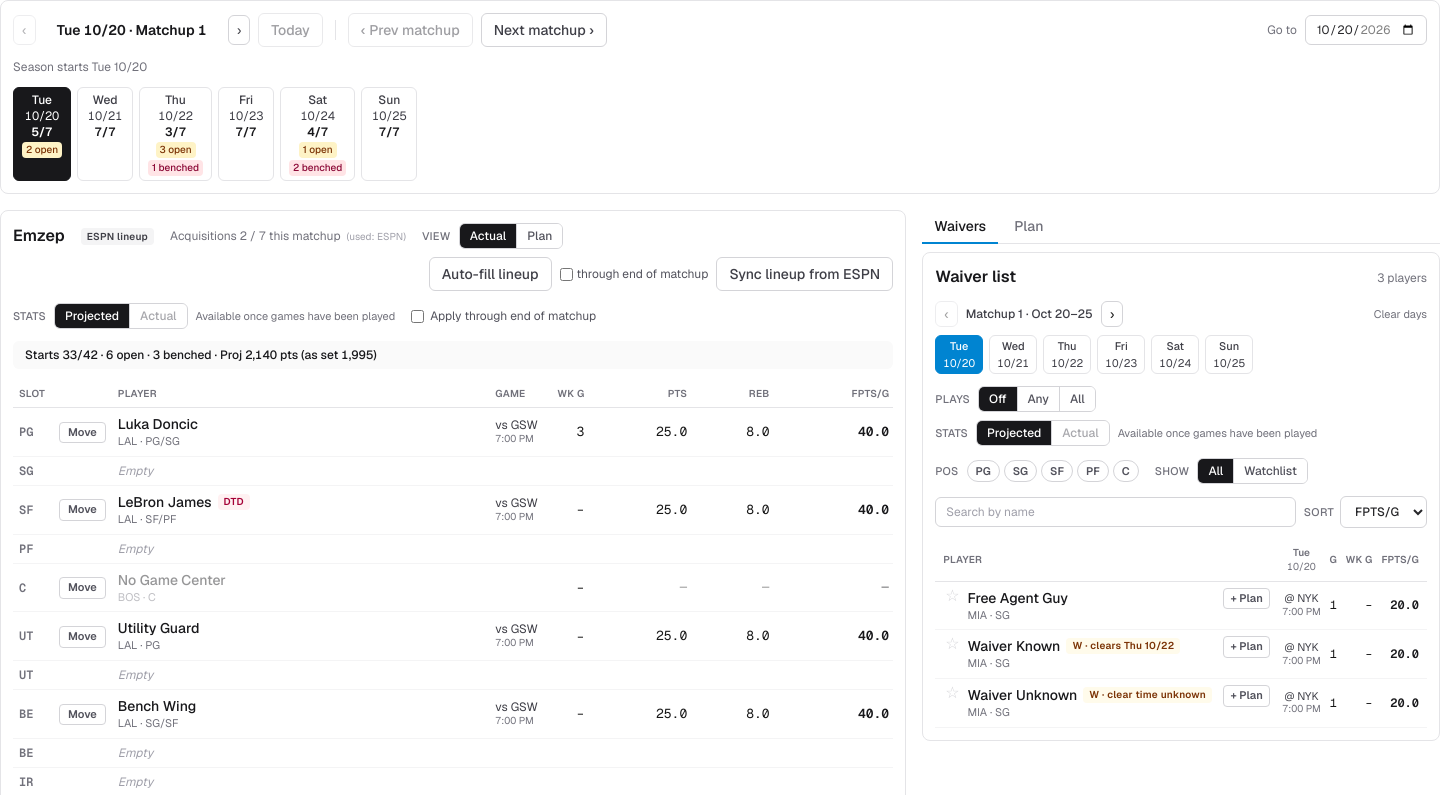
Test: moving a player › shows a 422's reasons and leaves the grid as it was
Check: the button "Luka Doncic" is shown, box 118,414 -> 198,434
Check: the button "Free Agent Guy" is shown, box 968,588 -> 1068,608
Click the button with aria-label "Move Luka Doncic": (82, 433) 59,422 -> 106,444
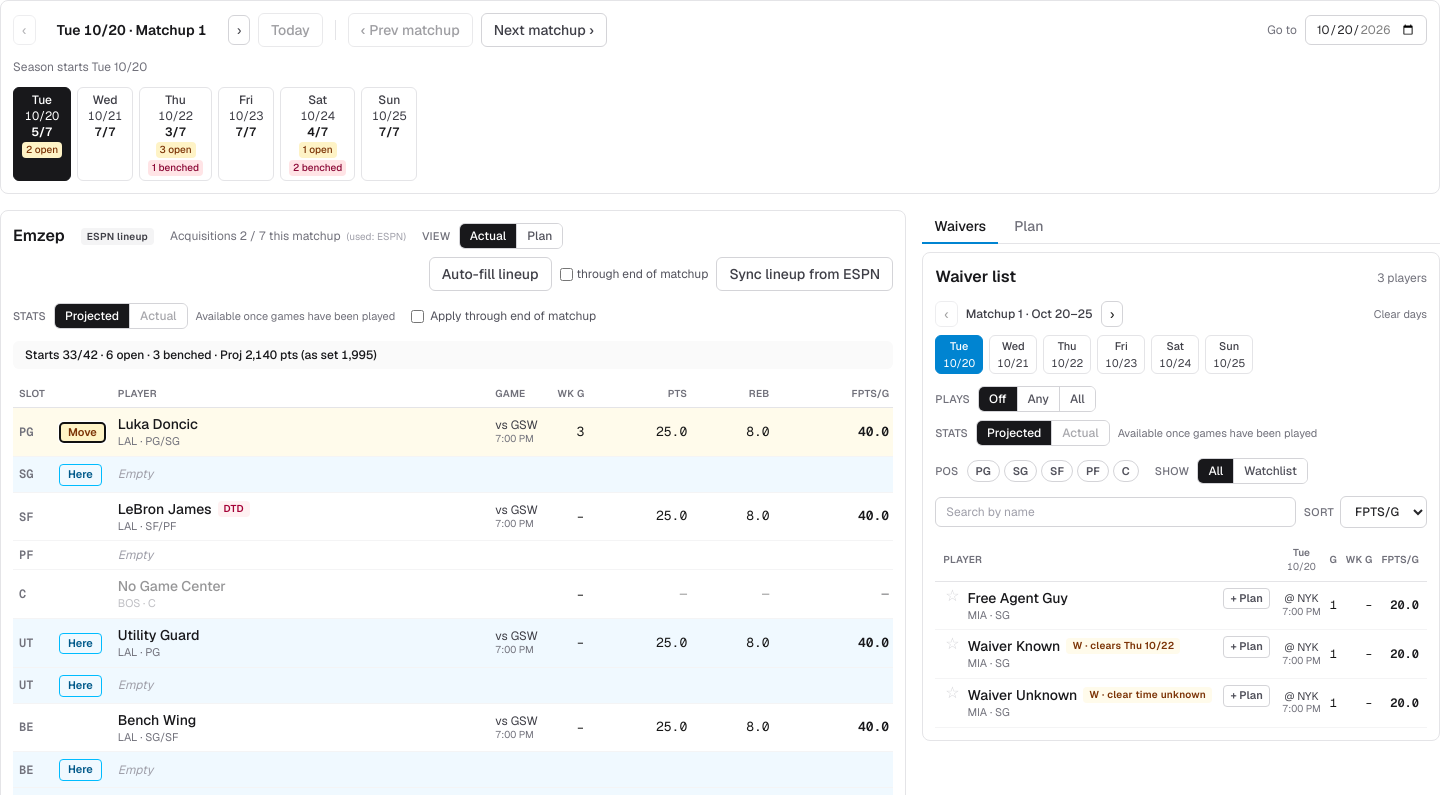
Click the 1st button "Here": (80, 475) 59,464 -> 102,486
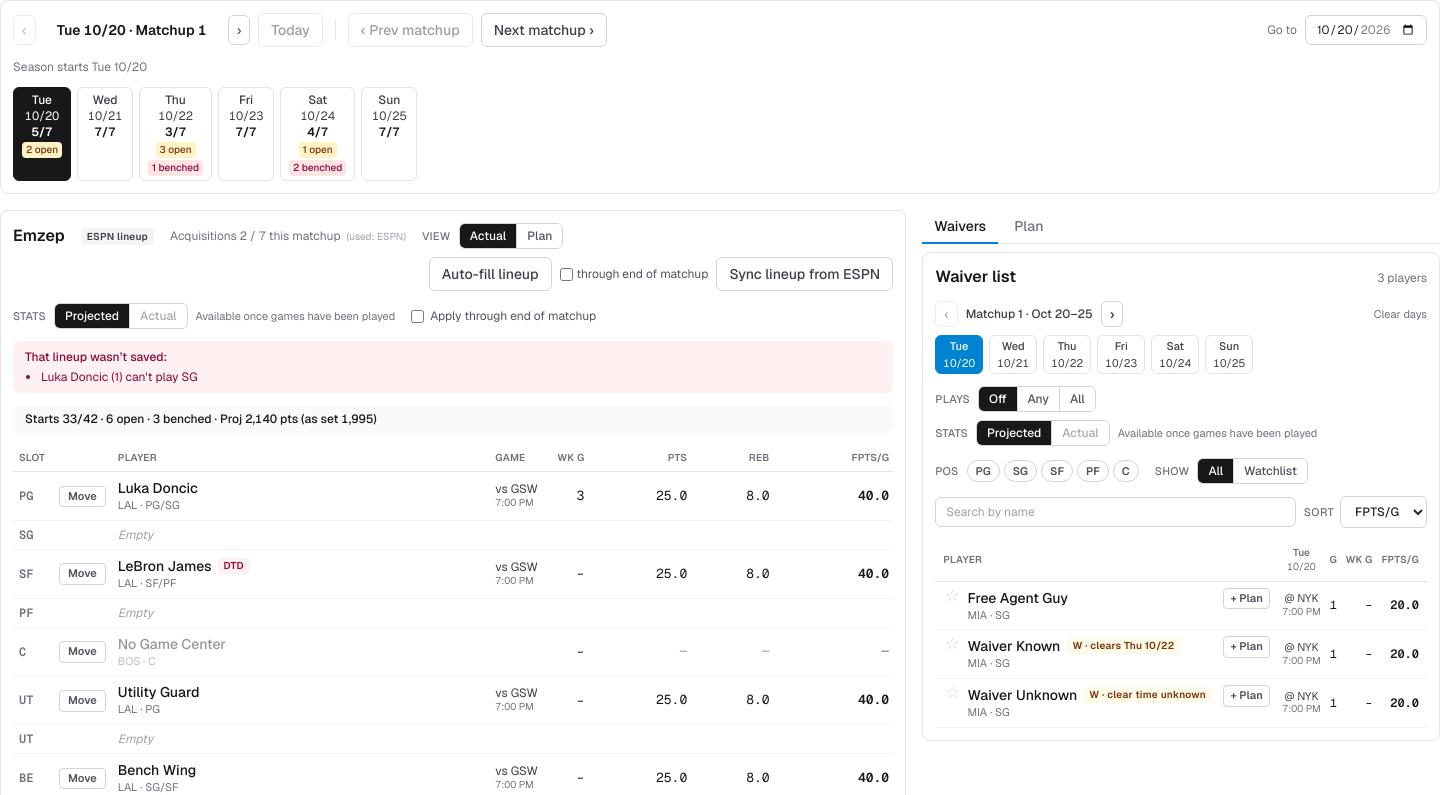
Check: the button "Luka Doncic" is shown, box 118,478 -> 198,498
Check: the list item "Luka Doncic (1) can't play SG" is shown, box 41,369 -> 198,385
